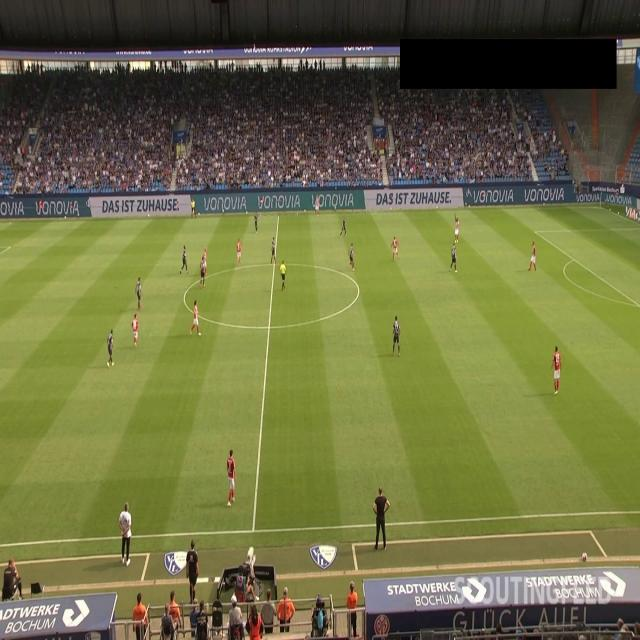player: (225, 449, 237, 507), (552, 343, 562, 394), (106, 328, 116, 367), (190, 301, 201, 336), (392, 311, 400, 353), (528, 240, 538, 272), (450, 244, 458, 277), (181, 243, 189, 273), (135, 276, 142, 307), (132, 314, 139, 345), (349, 241, 356, 271), (392, 235, 399, 260), (200, 255, 206, 284), (236, 238, 243, 262), (454, 215, 460, 242), (271, 236, 277, 262), (203, 247, 209, 273), (341, 215, 347, 237), (255, 206, 259, 232), (315, 194, 319, 215)
